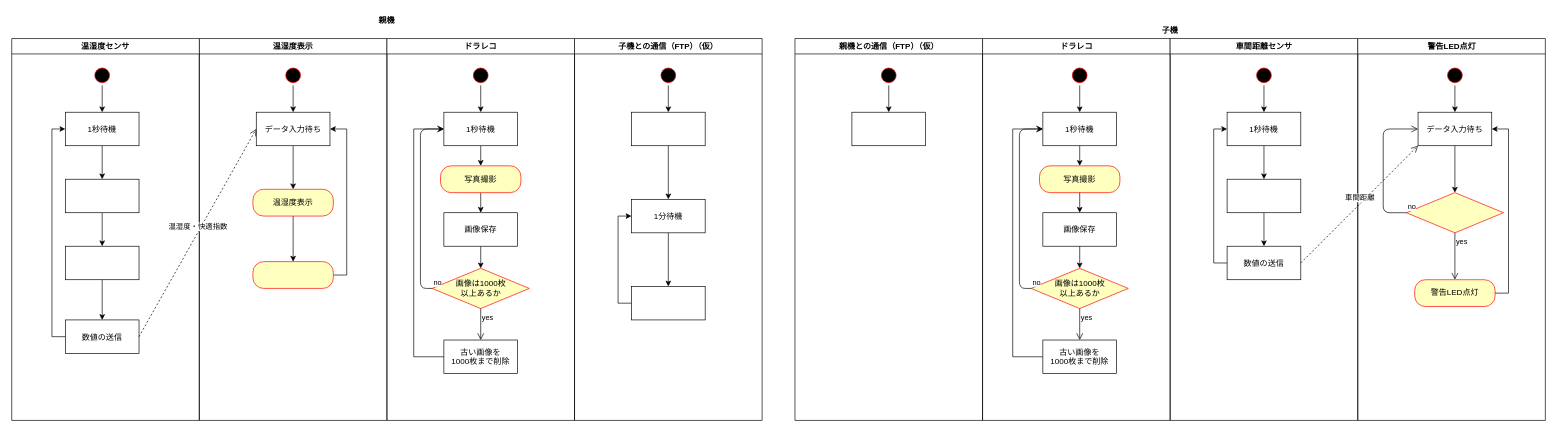
Some shapes in this 1557 by 432 pixel diagram are drawn without their labels. Each missing label, with the centre of its shape:
"FFFTP的な ものの起動" goes at point 668,129.
"vsftpdの起動" goes at point 888,129.
"差分のデータを ダウンロード" goes at point 668,303.
"快適指数に応じて 背景色変更" goes at point 292,274.
"快適指数の算出" goes at point 102,263.
"既定の距離未満か" goes at point 1454,212.
"温湿度の測定" goes at point 102,196.
"車間距離の測定" goes at point 1263,196.
